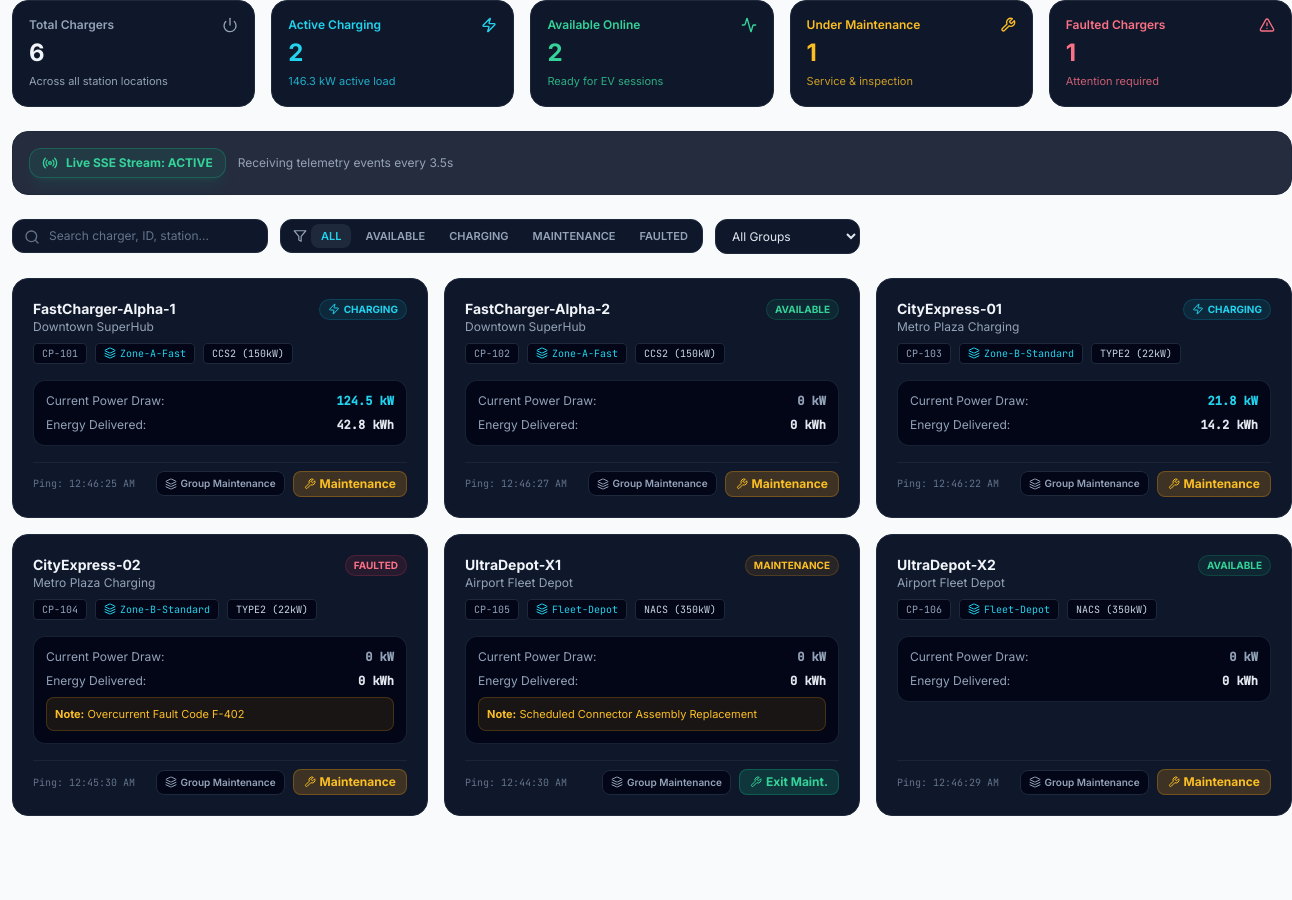
VendorUserOperationsPage & Components › renders RealtimeMonitorGrid with charger status cards and filtering
Expected: the text "Total Chargers" is shown, left=29, top=17, right=114, bottom=33
Expected: the heading "FastCharger-Alpha-1" is shown, left=33, top=298, right=176, bottom=318
Type "Alpha-1" into the field with placeholder "Search charger, ID, station...". click: (140, 236)
box: left=12, top=219, right=268, bottom=253
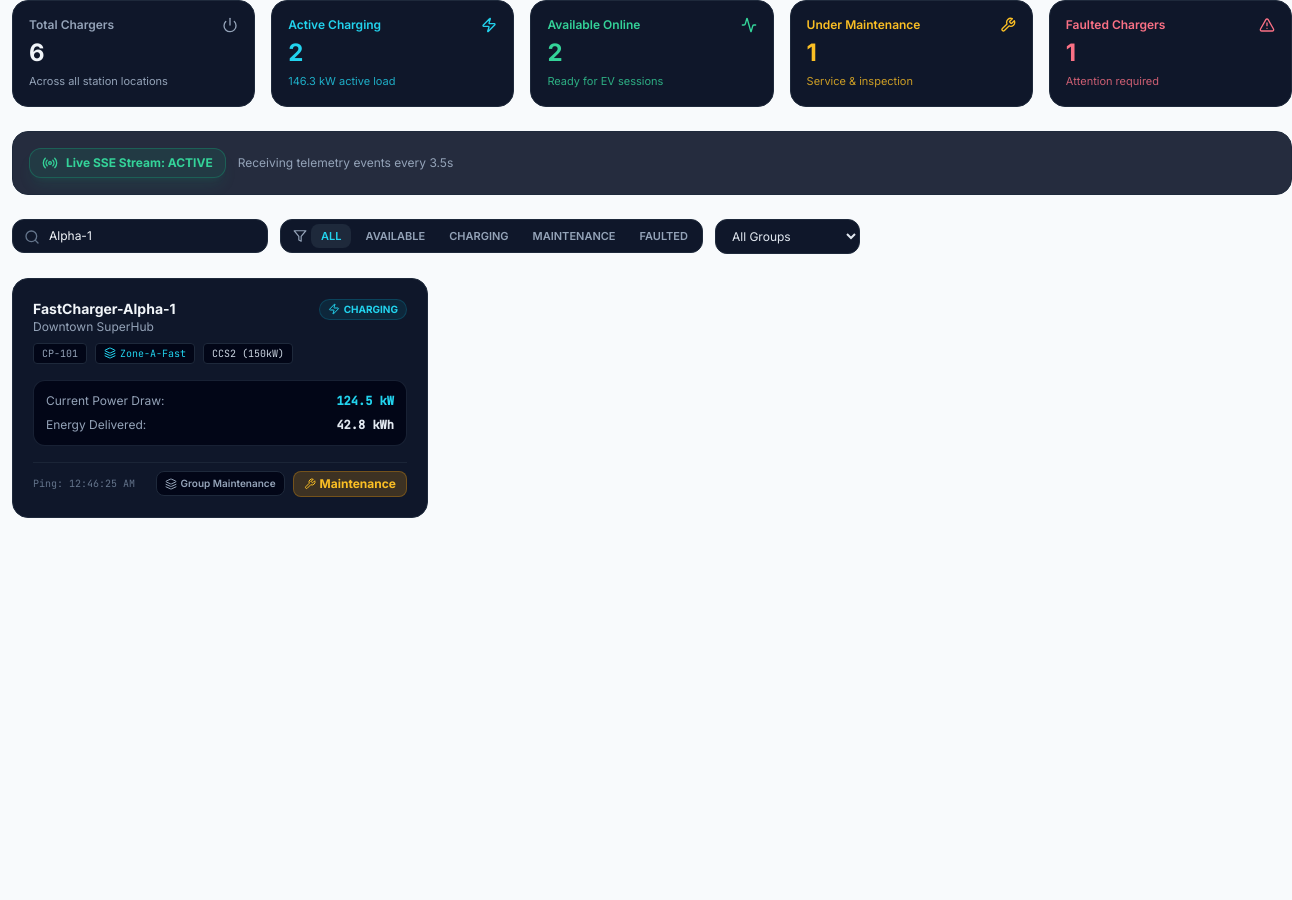
Expected: the heading "FastCharger-Alpha-1" is shown, left=33, top=298, right=176, bottom=318
Expected: the heading "CityExpress-01" is gone
